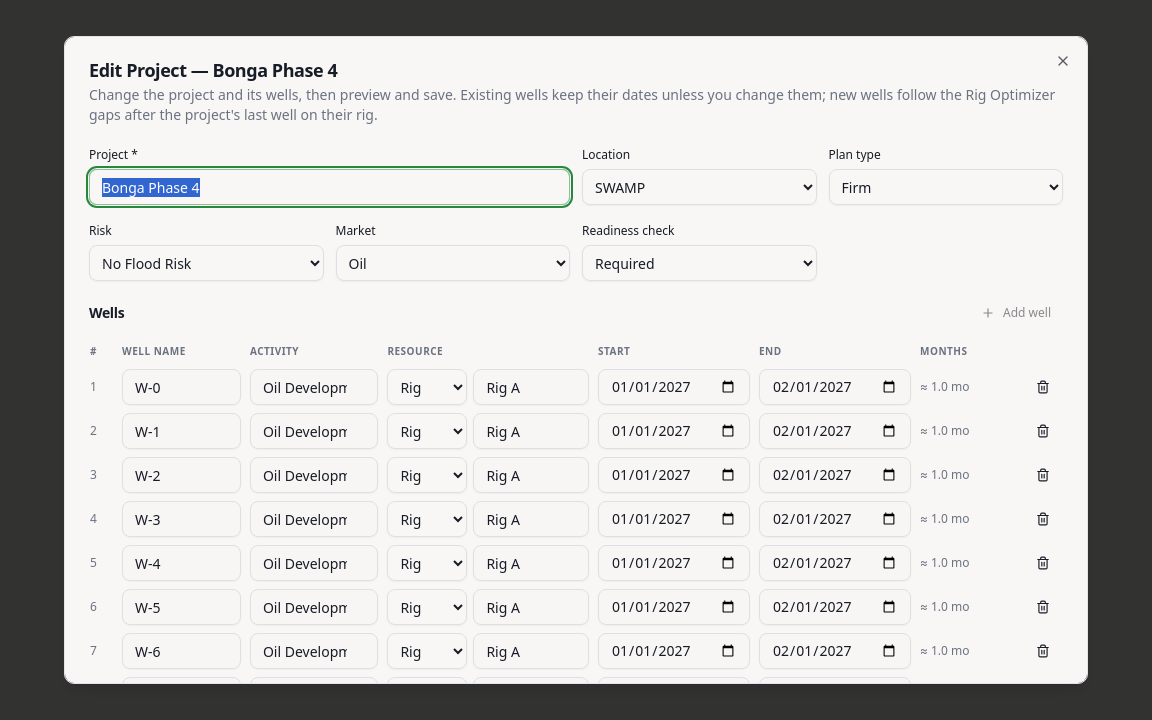
Test: EditProjectDialog — review fixes › counts only the wells being kept against the 100-well limit
The width and height of the screenshot is (1152, 720).
Expected: the button "Add well" is disabled, x1=969 y1=297 x2=1063 y2=329
Click the button named "Remove W-0". click: (1043, 387)
box: x1=1024 y1=371 x2=1062 y2=403
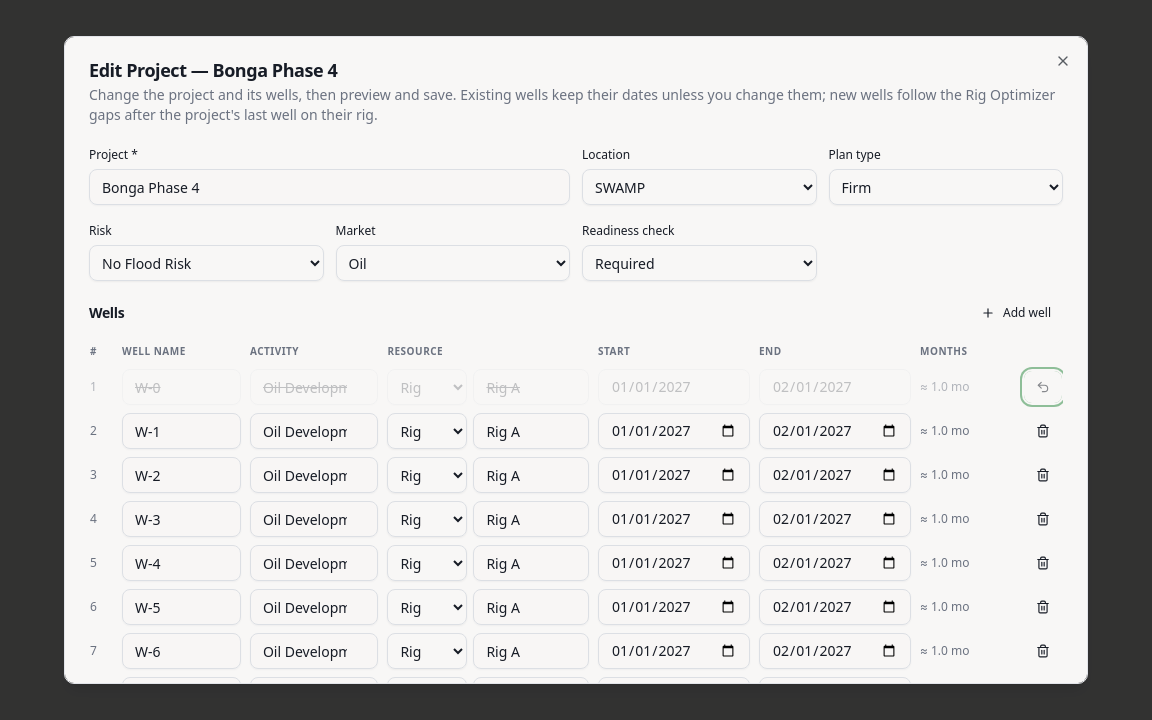
Expected: the button "Add well" is enabled, x1=969 y1=297 x2=1063 y2=329
